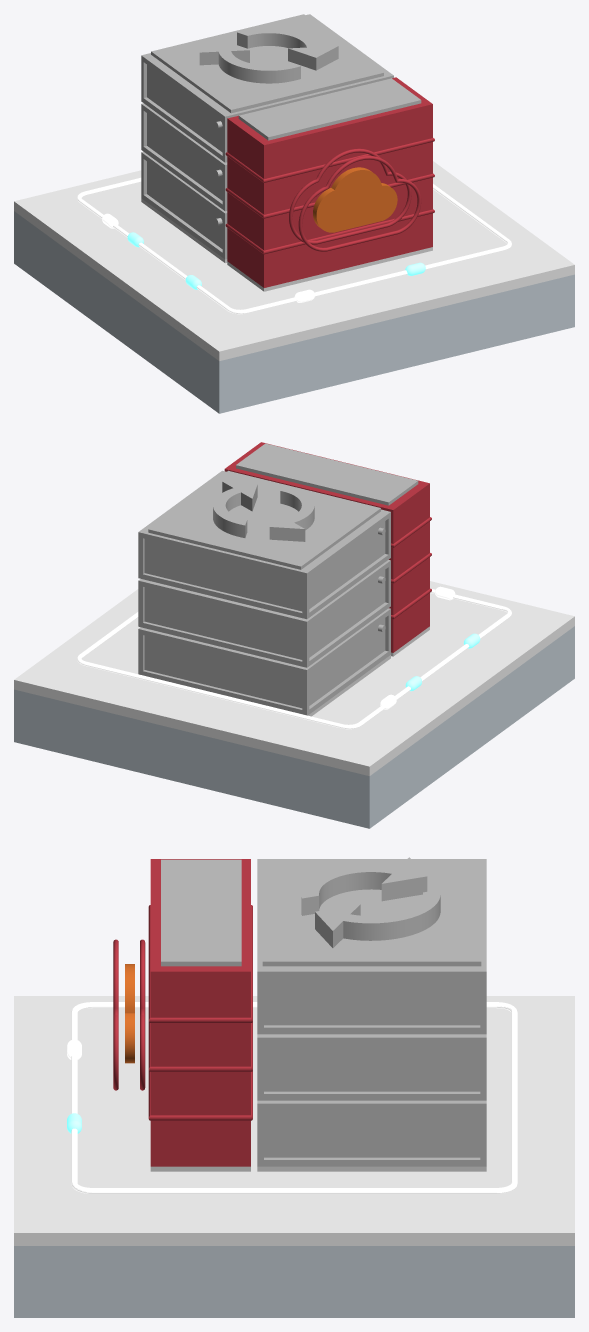
Rendered from aliyun.glb.
3 renders of one model, top to bottom at view 1: azimuth 30°, elevation 25°; view 2: azimuth 150°, elevation 25°; view 3: azimuth 270°, elevation 25°, orthographic. The views are drawn at different scales.
Parts seen in each view (by area): view 1: Cube.001, Cube, 立方体.006, 立方体.004, 立方体.003, 立方体.007, Curve, 立方体.002, 立方体.001, Curve.001, 平面, 立方体.008 (+3 smaller); view 2: Cube.001, Cube, 立方体.003, 立方体.002, 立方体.001, 立方体.004, 立方体.006, 立方体.007, Curve, 平面, 立方体.008; view 3: Cube.001, Cube, 立方体.006, 立方体.003, 立方体.004, 立方体.001, 立方体.002, 立方体.007, Curve, 平面, 立方体.008, 立方体 (+4 smaller).
Boxes of the visible parts, x1,y1,x2,y2 form: Cube.001: (14,161,574,360); Cube: (14,211,574,413); 立方体.006: (227,77,432,287); 立方体.004: (151,14,383,113); 立方体.003: (141,14,393,162); 立方体.007: (238,78,421,140); Curve: (199,27,338,83); 立方体.002: (141,103,227,211); 立方体.001: (141,151,227,259); Curve.001: (313,167,397,232); 平面: (77,177,511,314); 立方体.008: (225,138,434,254); Cube.001: (14,581,574,775); Cube: (14,626,574,828); 立方体.003: (138,470,390,619); 立方体.002: (138,560,390,667); 立方体.001: (138,608,390,715); 立方体.004: (148,470,380,569); 立方体.006: (224,442,429,652); 立方体.007: (236,443,418,505); Curve: (213,481,314,541); 平面: (77,588,511,729); 立方体.008: (391,517,431,619); Cube.001: (14,996,574,1245); Cube: (14,1246,574,1317); 立方体.006: (150,859,250,1166); 立方体.003: (257,859,486,1034); 立方体.004: (262,859,481,966); 立方体.001: (257,1100,486,1166); 立方体.002: (257,1034,486,1100); 立方体.007: (161,859,241,966); Curve: (301,857,440,947); 平面: (71,1002,517,1193); 立方体.008: (148,905,252,1120); 立方体: (257,1166,486,1171).
Bounding box in the file's own units: 1.79 × 1.08 × 1.79.
